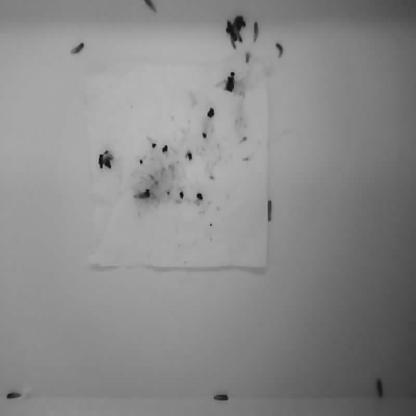PtecticusTenebrifer: (68, 41, 84, 56), (143, 0, 159, 14), (5, 390, 23, 402), (132, 191, 151, 202), (266, 198, 273, 222), (376, 377, 384, 398), (213, 394, 229, 403), (253, 21, 258, 43), (277, 43, 284, 58)
